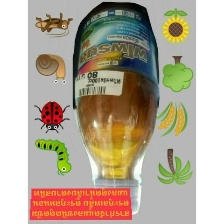insecticide: (71, 4, 162, 218)
